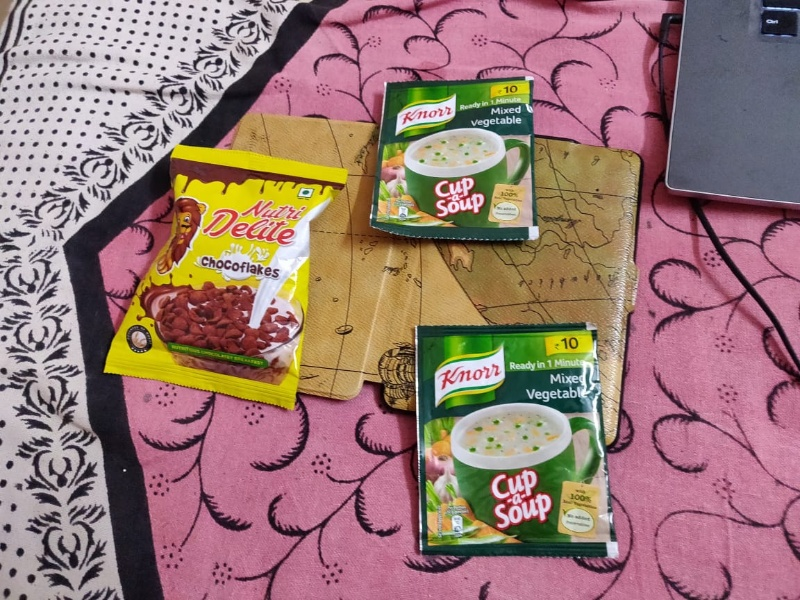Knorr_Cup_Soup: (414, 328, 621, 556), (380, 81, 546, 244)
nutriDelite: (111, 140, 344, 415)
